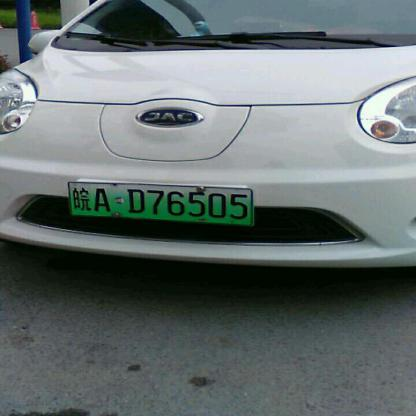lp: (70, 181, 252, 225)
